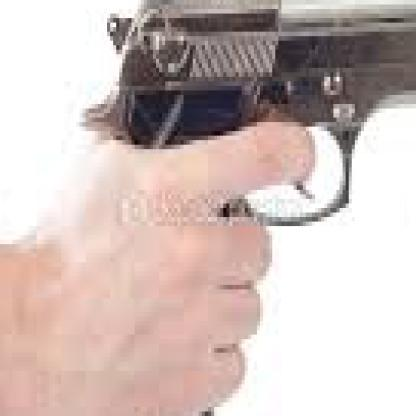gun: (76, 0, 413, 412)
